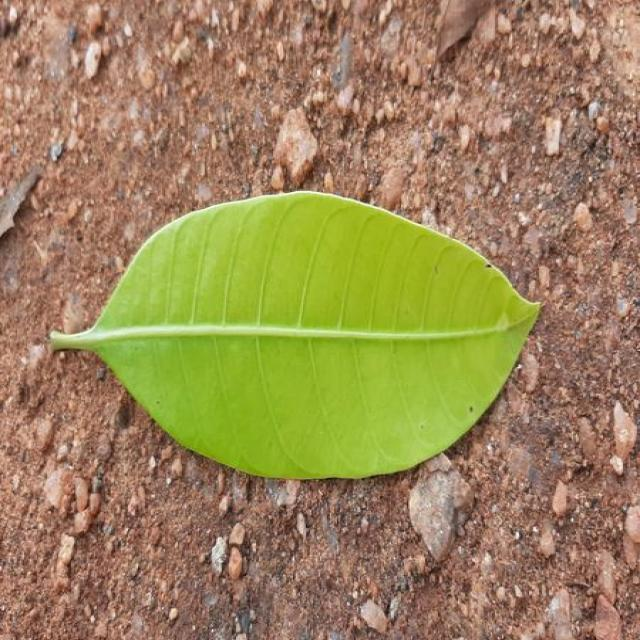mango: (50, 191, 540, 479)
